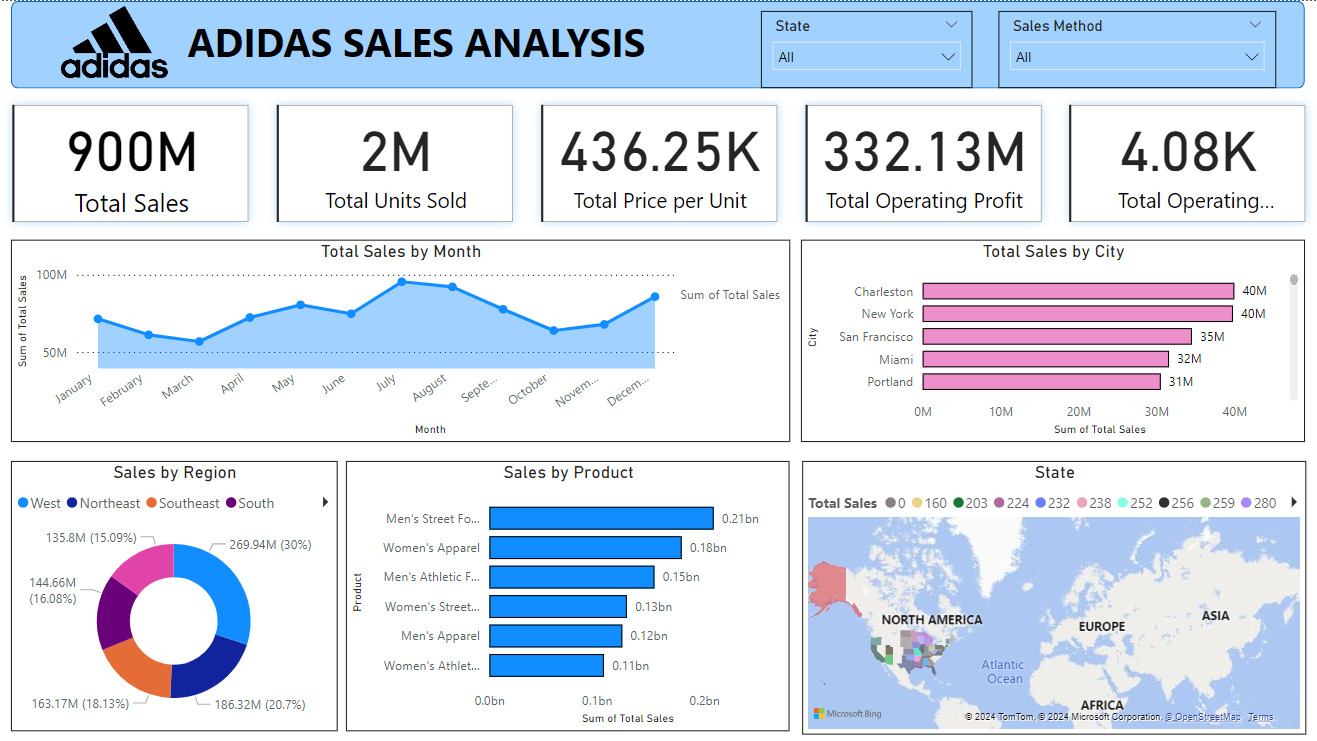

What the dashboard file says about the page in this screenshot:
{"tool":"powerbi","page":{"name":"Page 1","canvas":[1280,720],"ordinal":0},"visuals":[{"type":"shape","box":[14.5,0,1248.7,84.5],"z":0},{"type":"textbox","box":[179.8,9.7,491,65.1],"z":1000},{"type":"image","box":[48.3,0,131.5,79.6],"z":2000},{"type":"cardVisual","fields":{"Data":["Sum(Data Sales Adidas.Total Sales)","Sum(Data Sales Adidas.Units Sold)","Sum(Data Sales Adidas.Price per Unit)","Sum(Data Sales Adidas.Operating Profit)","Sum(Data Sales Adidas.Operating Margin)"]},"box":[0,84.5,1280,146],"z":3000},{"type":"donutChart","title":"Sales by Region","fields":{"Y":["Sum(Data Sales Adidas.Total Sales)"],"Category":["Data Sales Adidas.Region"]},"box":[14.5,444,314.9,260.6],"z":4000},{"type":"barChart","title":"Sales by Product","fields":{"Y":["Sum(Data Sales Adidas.Total Sales)"],"Category":["Data Sales Adidas.Product"]},"box":[337.8,444,428.3,260.6],"z":5000},{"type":"barChart","title":"Total Sales by City","fields":{"Y":["Sum(Data Sales Adidas.Total Sales)"],"Category":["Data Sales Adidas.City"]},"box":[776.9,230.4,486.2,195.4],"z":6000},{"type":"lineChart","title":"Total Sales by Month","fields":{"Category":["Data Sales Adidas.Invoice Date.Variation.Date Hierarchy.Month"],"Y":["Sum(Data Sales Adidas.Total Sales)"]},"box":[14.5,230.4,751.6,195.4],"z":7000},{"type":"filledMap","title":"State","fields":{"Category":["Data Sales Adidas.State"],"Series":["Data Sales Adidas.Total Sales"]},"box":[778.2,444,486.2,264.2],"z":8000},{"type":"slicer","fields":{"Values":["Data Sales Adidas.State"]},"box":[738.3,9.7,203.9,74.8],"z":9000},{"type":"slicer","fields":{"Values":["Data Sales Adidas.Sales Method"]},"box":[967.6,9.7,267.8,74.8],"z":10000}]}

Visuals, with their boxes in screenshot pixels (x1, y1, x2, y2), scaled from the page's 1280x720 canvas onto the 1317x741 screenshot:
shape: box(15, 0, 1300, 87)
textbox: box(185, 10, 690, 77)
image: box(50, 0, 185, 82)
cardVisual - Sum(Data Sales Adidas.Total Sales) x Sum(Data Sales Adidas.Units Sold): box(0, 87, 1316, 237)
"Sales by Region" donutChart: box(15, 457, 339, 725)
"Sales by Product" barChart: box(348, 457, 788, 725)
"Total Sales by City" barChart: box(799, 237, 1300, 438)
"Total Sales by Month" lineChart: box(15, 237, 788, 438)
"State" filledMap: box(801, 457, 1301, 729)
slicer - Data Sales Adidas.State: box(760, 10, 969, 87)
slicer - Data Sales Adidas.Sales Method: box(996, 10, 1271, 87)
